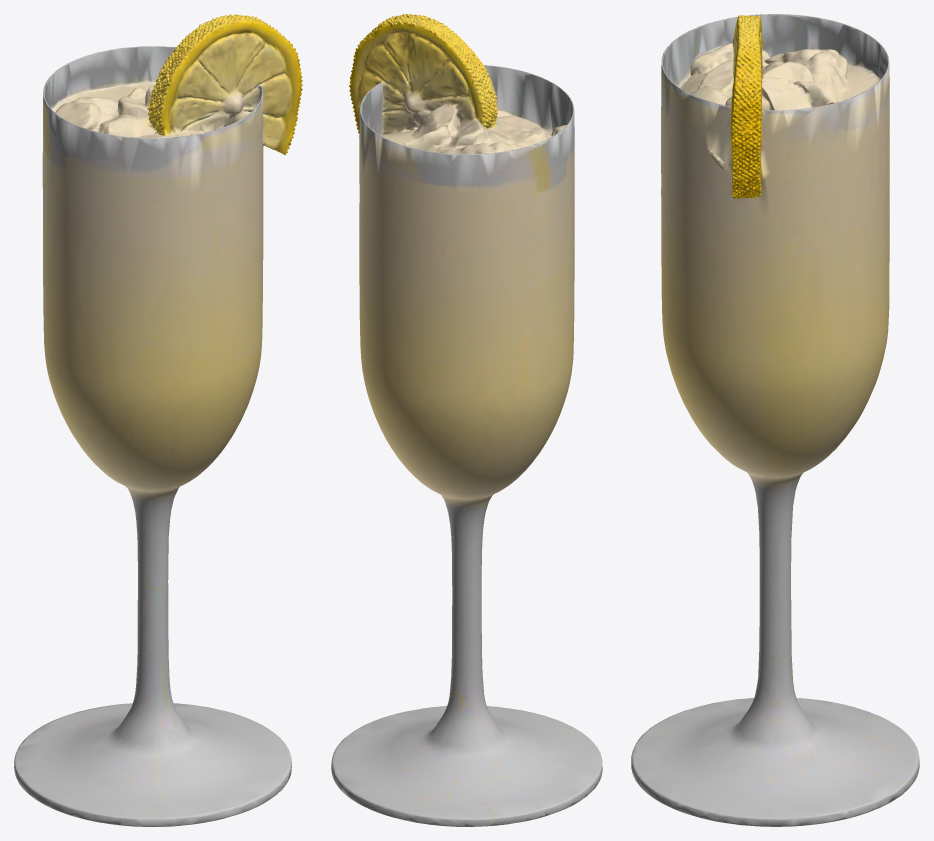
Rendered from french-75.glb.
The picture shows the model from 3 angles, left to right: view 1: azimuth 30°, elevation 25°; view 2: azimuth 150°, elevation 25°; view 3: azimuth 270°, elevation 25°; orthographic projection. The views are drawn at different scales.
Visible parts, largest first — view 1: mesh_node; view 2: mesh_node; view 3: mesh_node.
Boxes of the visible parts, bbox=[...] form: mesh_node: bbox=[14, 14, 302, 826]; mesh_node: bbox=[331, 14, 602, 826]; mesh_node: bbox=[631, 14, 919, 826].
Size of the model in its own units: 0.0772 by 0.22 by 0.0741.
1 material, 1 textured.
